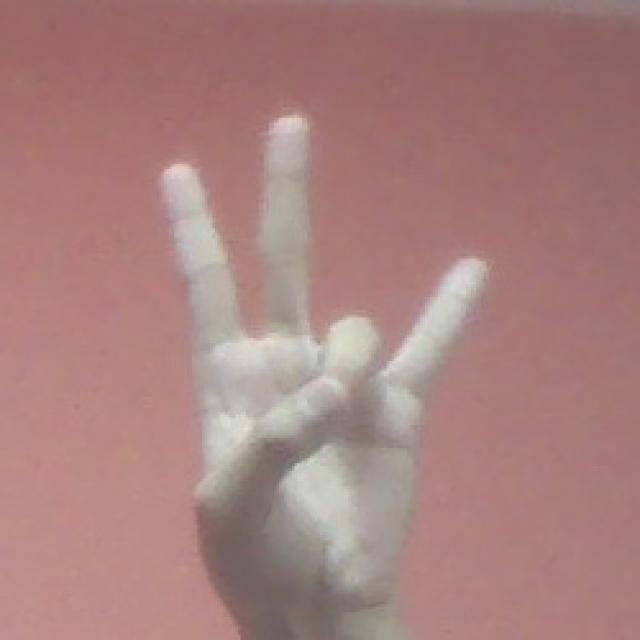Numeric-7: (158, 105, 492, 635)
